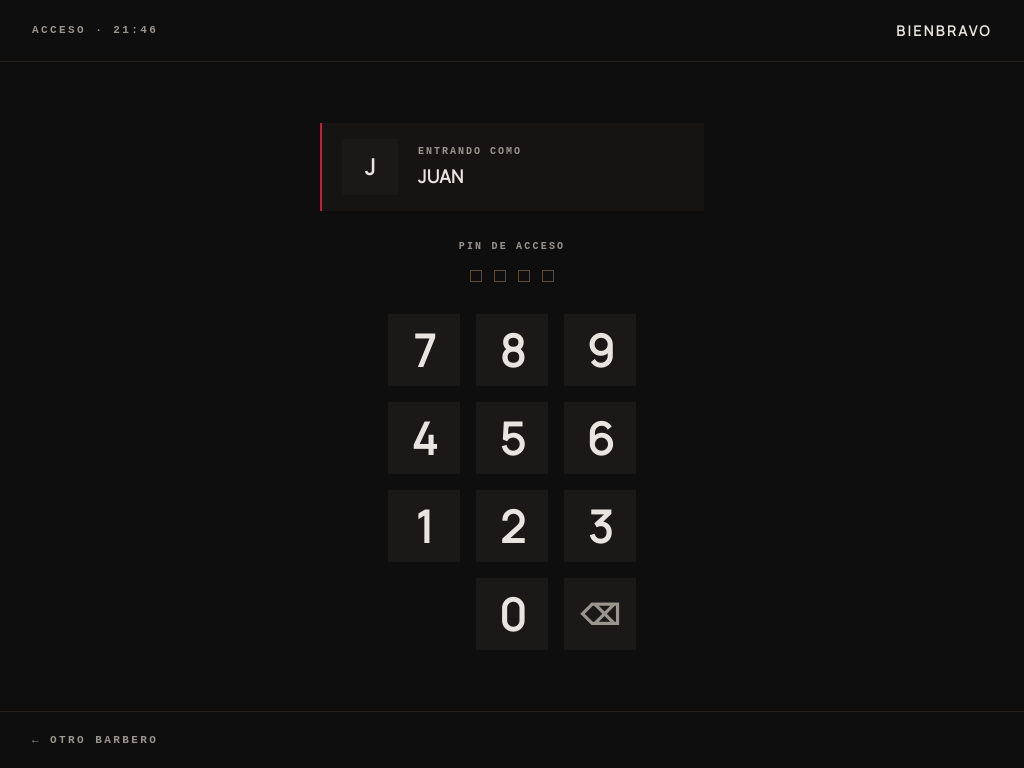
it: PinEntryView › shows "Validando…" and disables back after PIN is complete
Expected: the text "PIN de acceso" is shown, [459, 239, 565, 254]
Click the button "1" at (424, 526), box [388, 490, 460, 562]
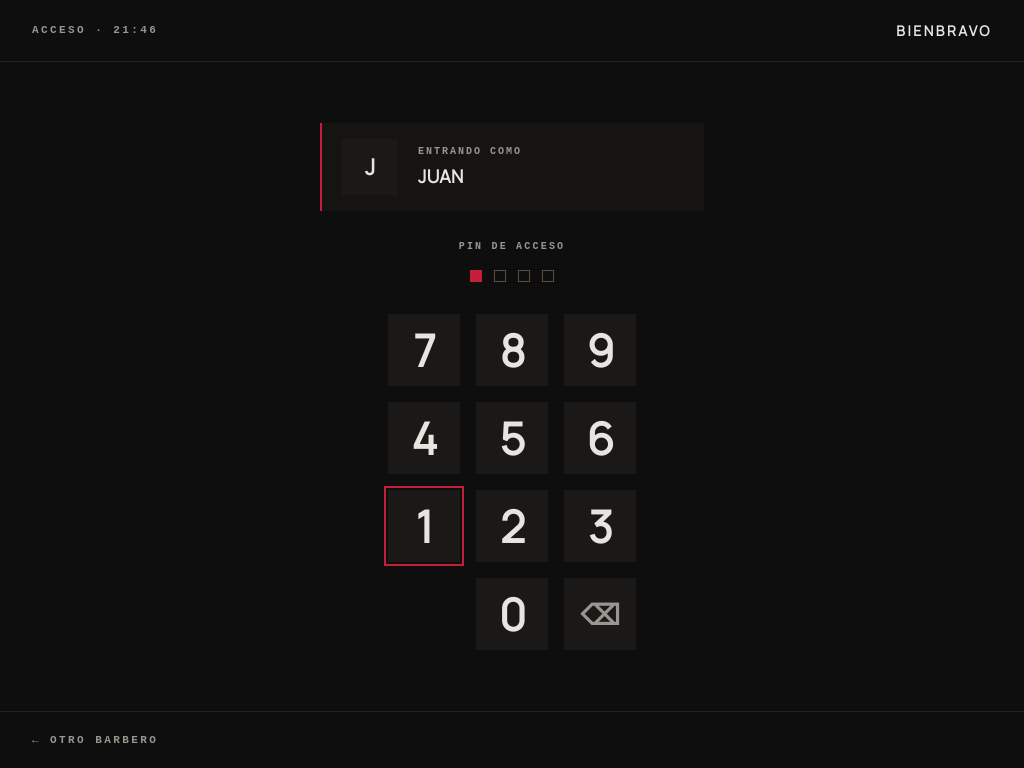
Click the button "2" at (512, 526), box [476, 490, 548, 562]
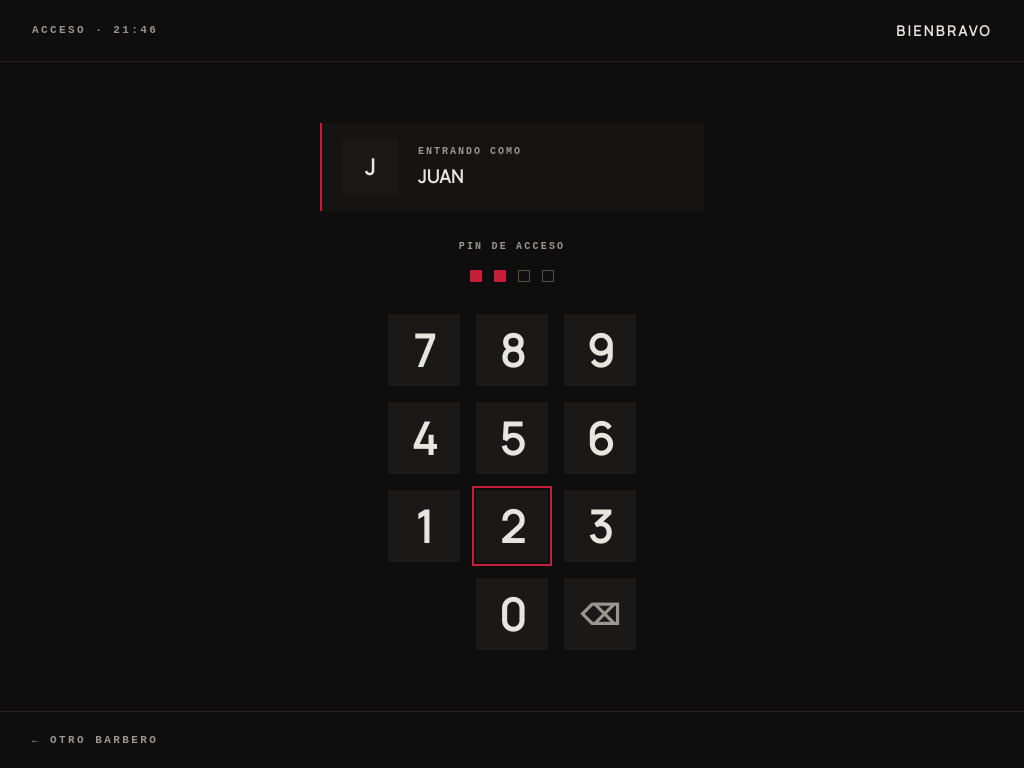
Click the button "3" at (600, 526), box [564, 490, 636, 562]
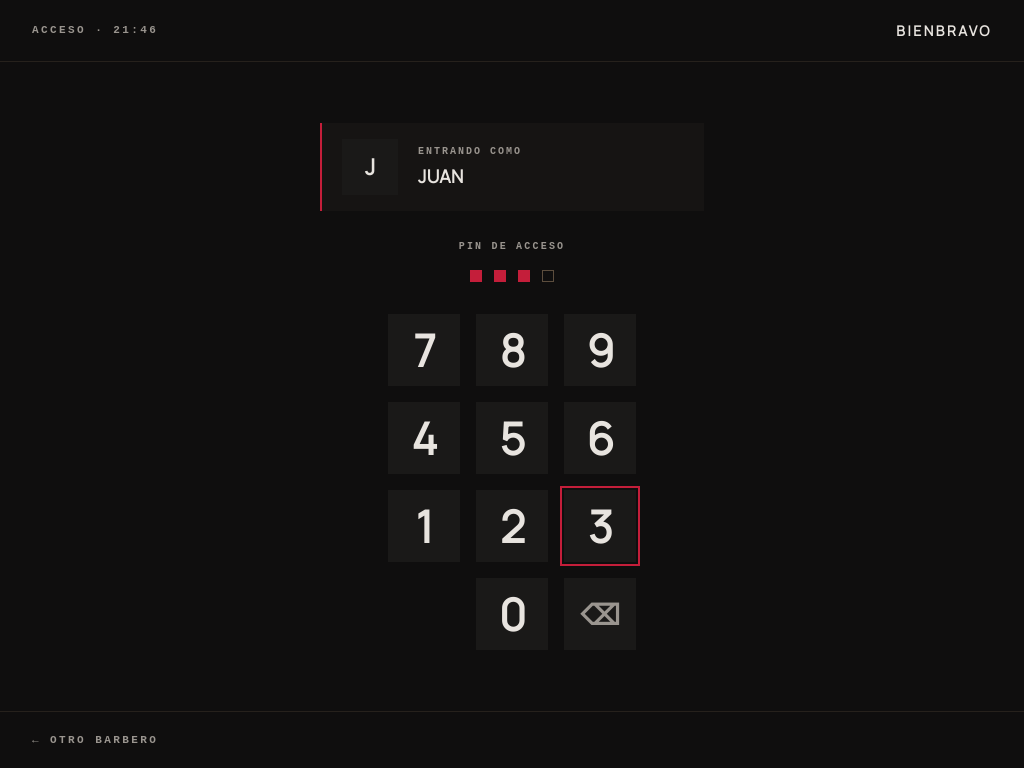
Click the button "4" at (424, 438), box [388, 402, 460, 474]
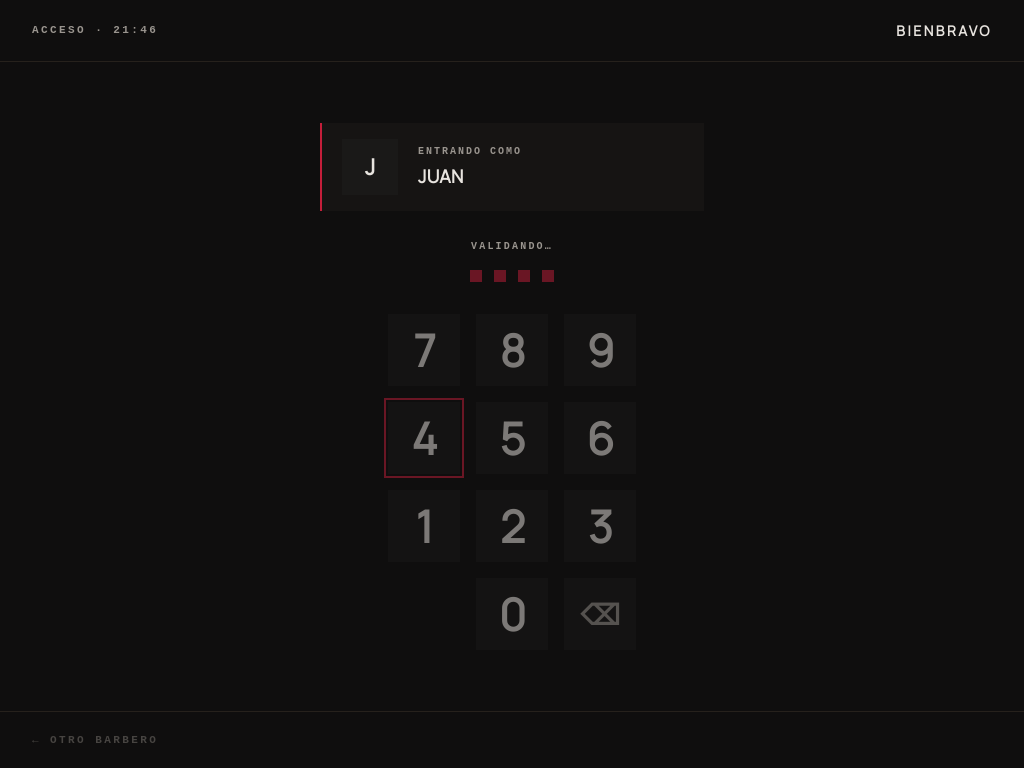
Expected: the text "Validando…" is shown, [471, 239, 553, 254]
Expected: the button "← Otro barbero" is disabled, [32, 732, 158, 748]
